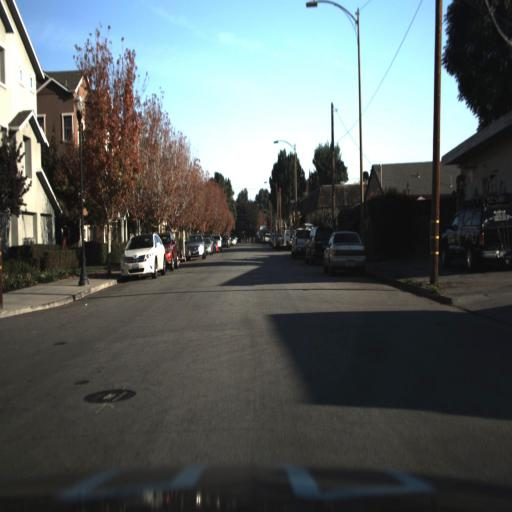car: (439, 196, 512, 276), (116, 229, 164, 280), (321, 230, 366, 280), (120, 232, 166, 280), (155, 226, 181, 275), (304, 223, 331, 266), (289, 220, 310, 258), (181, 231, 205, 262)
